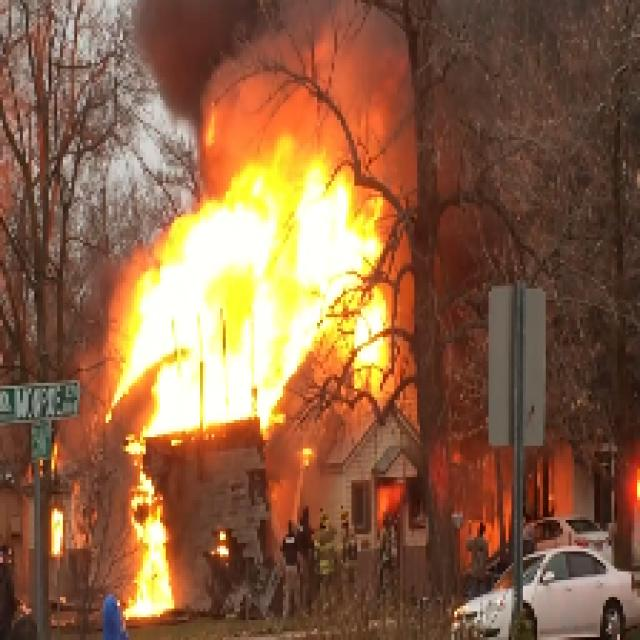fire: (132, 186, 396, 417)
